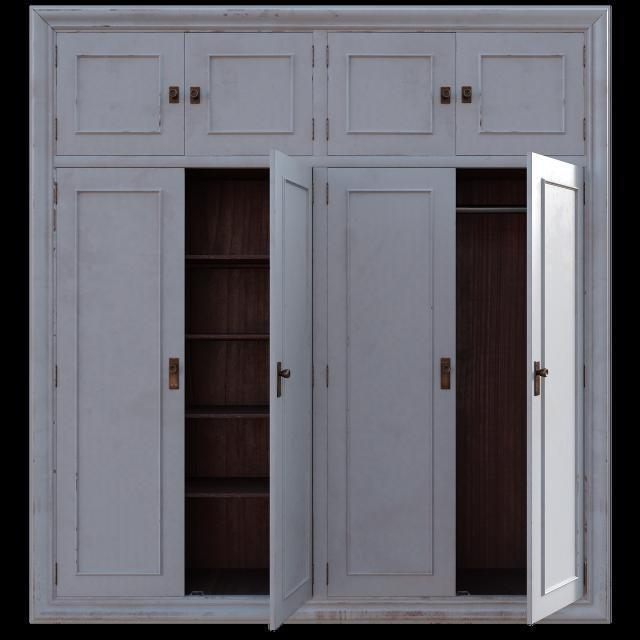door: (44, 151, 190, 600), (330, 155, 457, 599), (513, 136, 585, 626), (256, 142, 320, 629)
